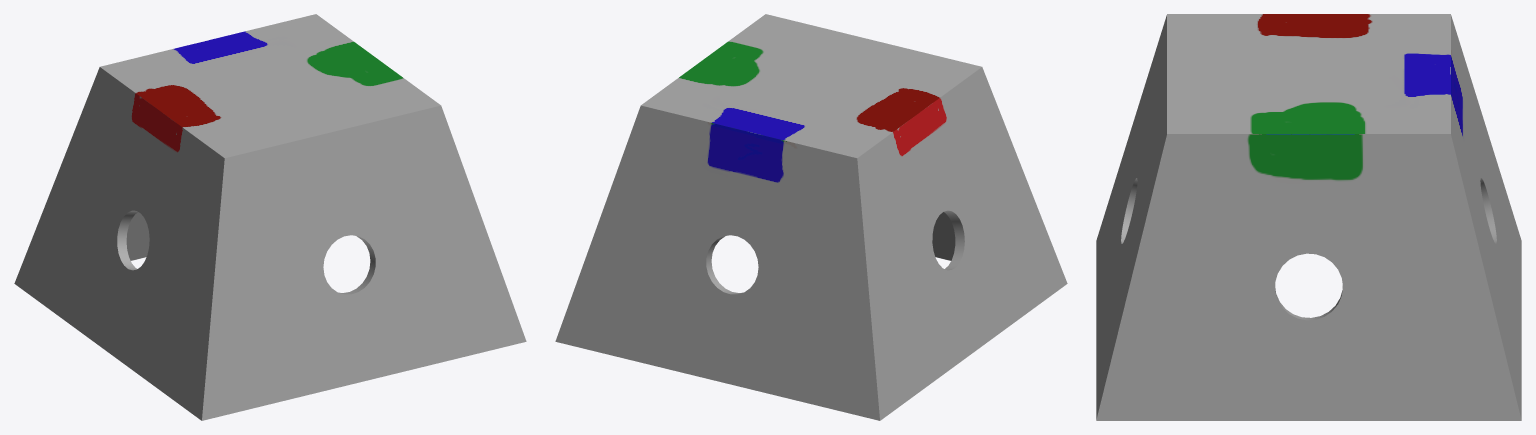
File: hub.obj
3 views of the same model, side by side, from view 1: azimuth 30°, elevation 25°; view 2: azimuth 150°, elevation 25°; view 3: azimuth 270°, elevation 25° (orthographic). The views are drawn at different scales.
Visible parts, largest first — view 1: 10x10; view 2: 10x10; view 3: 10x10.
Part boxes in pixels (x1,y1,x2,y2): 10x10: [14, 14, 526, 420]; 10x10: [555, 14, 1067, 420]; 10x10: [1096, 14, 1521, 420].
Bounding box in the file's own units: 100 × 66.67 × 100.
1 material, 1 textured.
